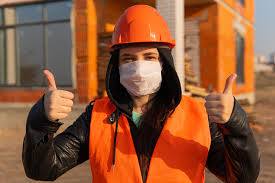Helmet: (102, 5, 180, 47)
Jacket: (81, 93, 226, 183)
Mask: (114, 66, 164, 105)
